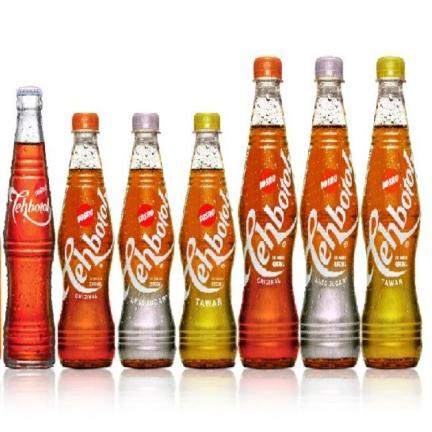container: (362, 56, 421, 368), (239, 77, 299, 369), (301, 67, 359, 368), (3, 87, 55, 368), (180, 113, 236, 368), (58, 113, 114, 368), (119, 113, 175, 366)
fluid: (300, 125, 359, 368), (362, 127, 421, 368), (239, 126, 298, 366), (179, 170, 236, 368), (119, 167, 175, 368), (4, 143, 54, 367), (58, 168, 114, 368)
fluid-surface: (251, 121, 285, 128), (14, 141, 44, 148), (69, 168, 102, 174), (313, 124, 346, 130), (129, 167, 154, 173), (373, 124, 408, 128), (190, 167, 224, 169), (155, 167, 163, 172)
